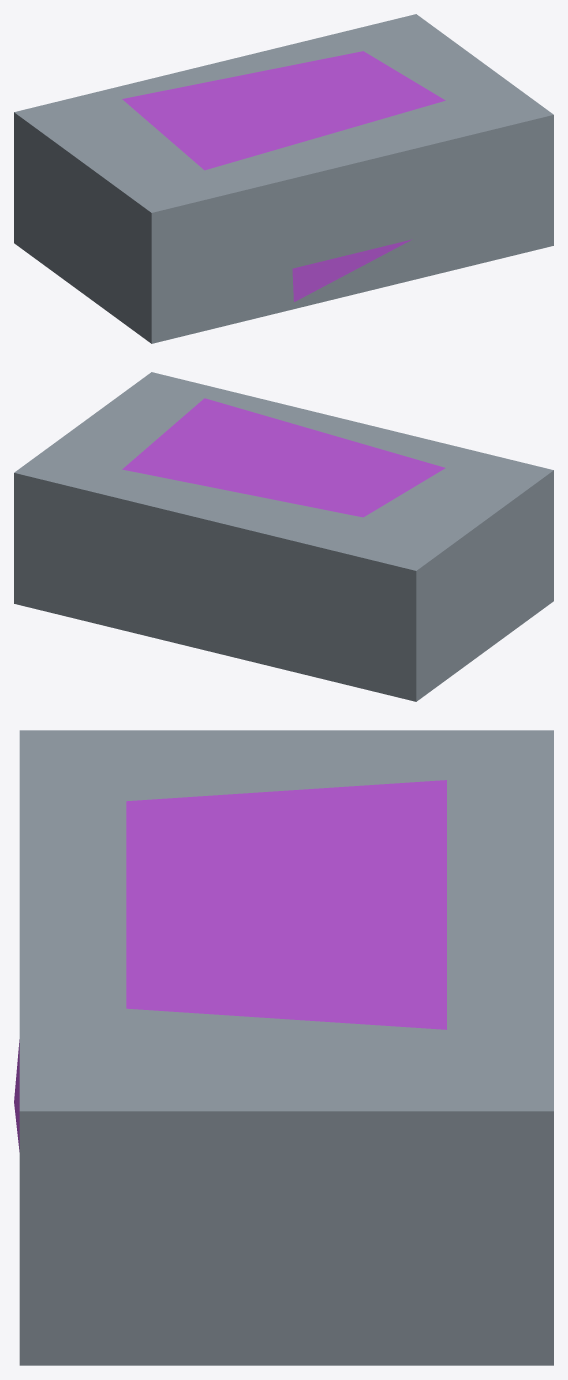
The model's file is CH_TimelineTank_LOD1.glb.
3 views of the same model, one above another, from view 1: azimuth 30°, elevation 25°; view 2: azimuth 150°, elevation 25°; view 3: azimuth 270°, elevation 25° (orthographic). The views are drawn at different scales.
Parts seen in each view (by area): view 1: EntranceGate; view 2: EntranceGate; view 3: EntranceGate.
Part boxes in pixels (<box>): EntranceGate: <box>14,14,553,343</box>; EntranceGate: <box>14,372,553,701</box>; EntranceGate: <box>14,730,553,1365</box>.
Bounding box in the file's own units: 540 × 186 × 323.
